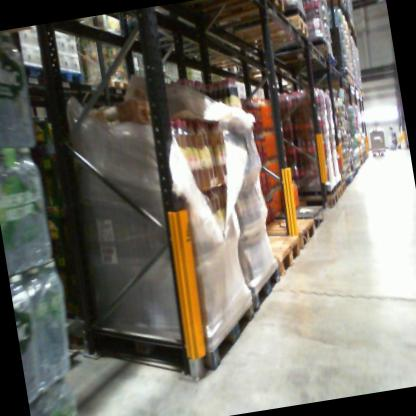pallet: (74, 280, 275, 400), (158, 0, 290, 41), (246, 222, 313, 289), (230, 13, 310, 55), (259, 208, 323, 257), (242, 253, 292, 313), (261, 194, 331, 236), (269, 43, 330, 70), (287, 189, 341, 216), (21, 49, 57, 83), (96, 73, 139, 100), (56, 62, 92, 94), (334, 184, 345, 201), (340, 178, 348, 193)
